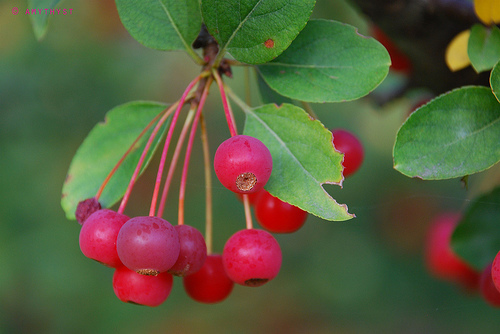apple: (113, 211, 184, 274), (211, 131, 275, 198), (220, 223, 286, 287)
